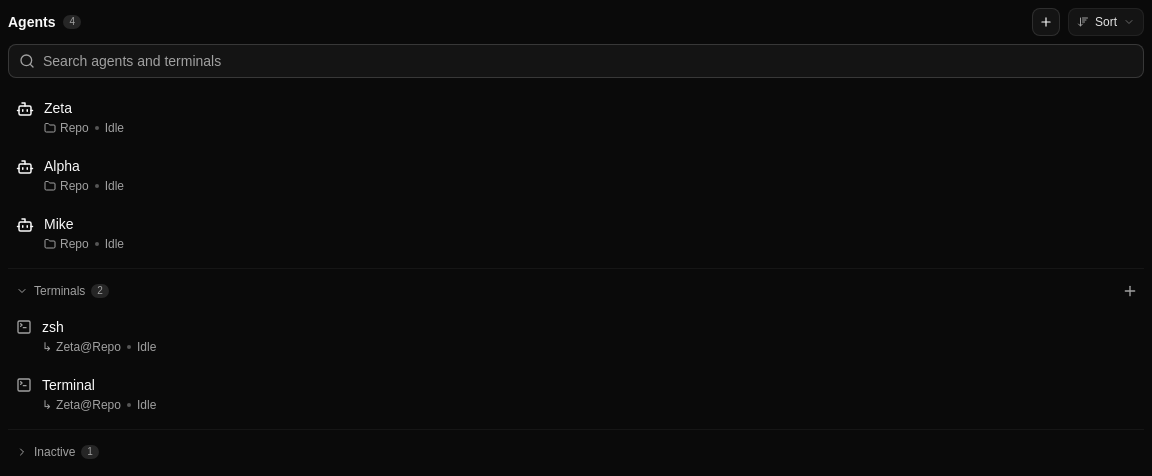
Test: FlatAgentList sort control › checkmarks the active mode in the menu
The image size is (1152, 476).
What coordinates should you click on to do the following:
click the button with aria-label "Sort agents"
I would click on:
 (1106, 22)
Its box is [1068, 8, 1144, 36].
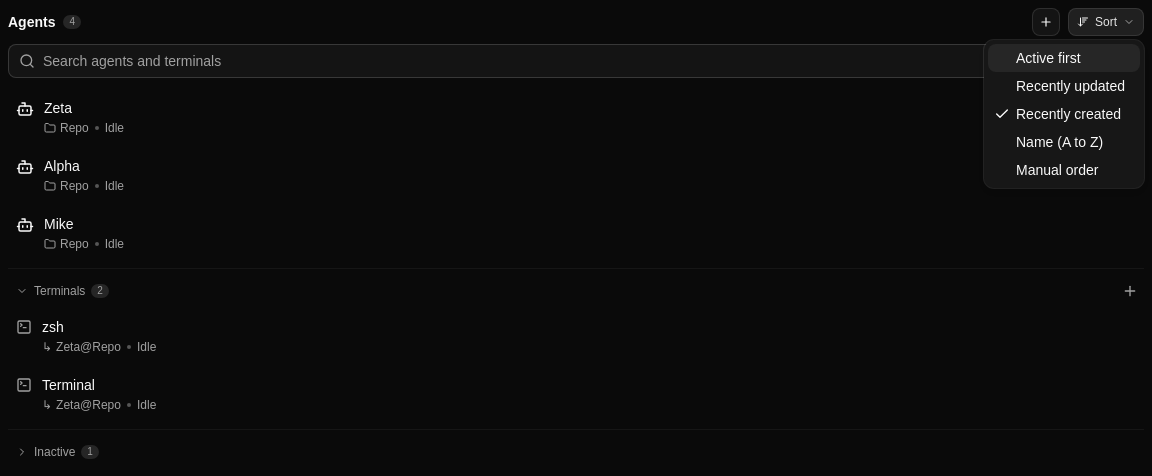
expect the menu is shown: met, box [984, 40, 1144, 188]
expect the icon with class "lucide-check" is shown: met, box [994, 106, 1010, 122]
